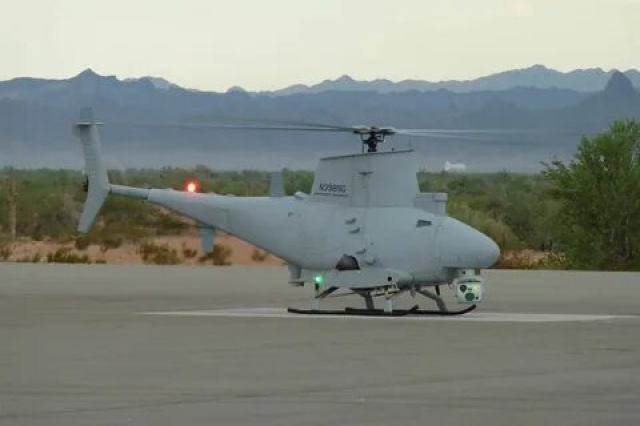military drone: (72, 105, 552, 317)
